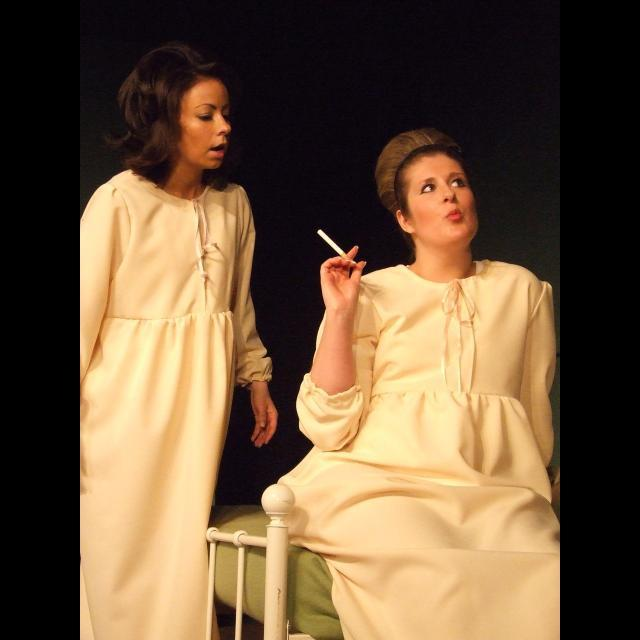rokok: (316, 228, 352, 262)
